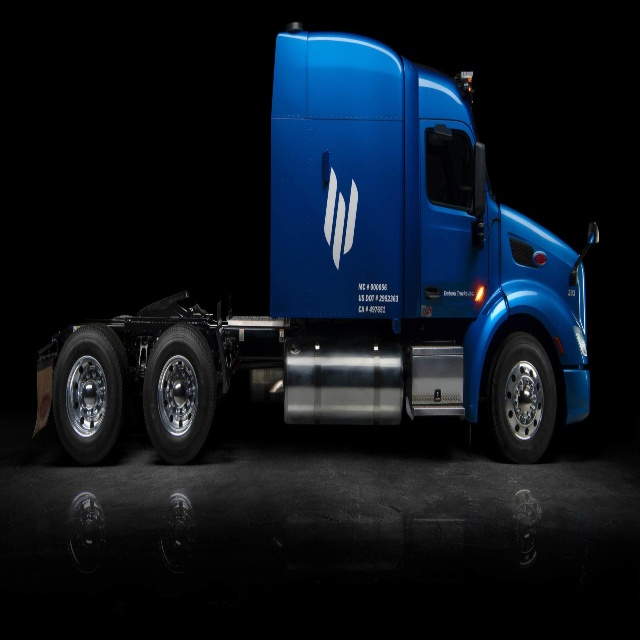Truck: (36, 33, 598, 467)
